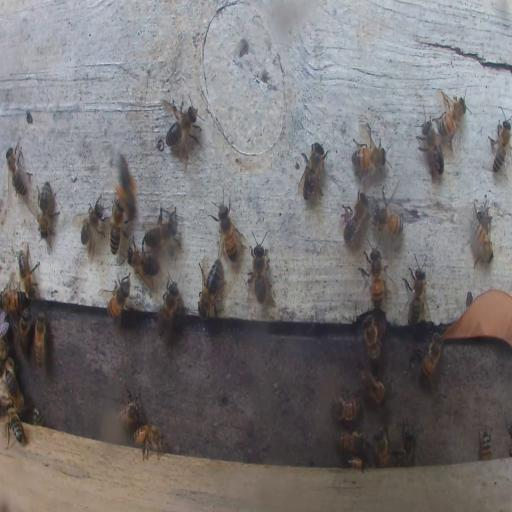nonpollenbee: (159, 99, 202, 153), (74, 193, 108, 255), (296, 140, 328, 200), (404, 252, 428, 330), (418, 114, 446, 178), (438, 90, 468, 148), (155, 275, 180, 343), (196, 257, 224, 317), (246, 232, 269, 304), (141, 209, 179, 251), (340, 190, 369, 244), (214, 198, 238, 261), (471, 197, 493, 265), (132, 420, 166, 462), (375, 187, 404, 236), (488, 114, 511, 174), (37, 178, 59, 240), (101, 273, 130, 320), (417, 334, 444, 384), (5, 146, 30, 199), (364, 244, 384, 308), (17, 245, 39, 299), (358, 365, 386, 407), (115, 390, 143, 430), (351, 142, 389, 170), (128, 243, 158, 278), (110, 191, 126, 256), (397, 417, 416, 468), (3, 366, 24, 412), (363, 314, 382, 364), (329, 430, 368, 454), (331, 394, 361, 422), (373, 426, 391, 468), (1, 285, 26, 313), (6, 408, 24, 445), (34, 312, 46, 366), (18, 306, 31, 353), (479, 429, 493, 460), (345, 455, 366, 470), (28, 406, 43, 425), (0, 339, 8, 367)
pollenbee: (114, 148, 138, 220)
